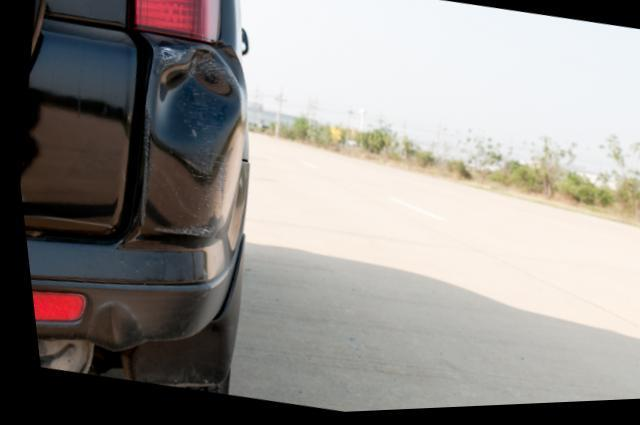dent: (148, 50, 238, 181), (79, 302, 130, 348)
scratch: (145, 142, 228, 240), (153, 47, 185, 69)
